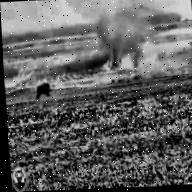boar: (33, 77, 55, 101)
